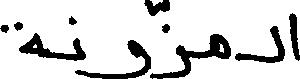X: (161, 0, 191, 78), (0, 17, 41, 61), (127, 0, 149, 78), (210, 29, 231, 63), (73, 13, 83, 78), (271, 21, 284, 67), (290, 8, 299, 65)
